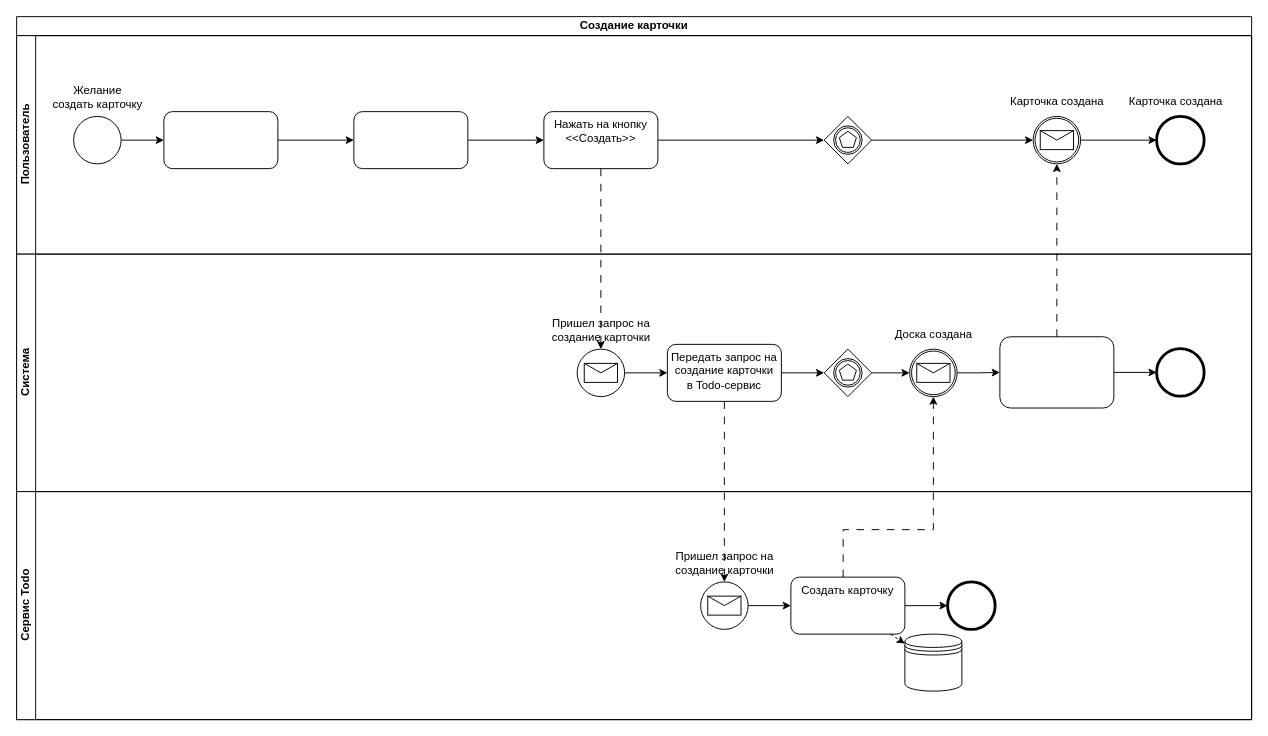
The diagram is 1268 pixels wide and 736 high, and some of its shapes have lost their labels. Here are the shapes that lost their labels. From the top down, the centre of each, then its label:
At (x=220, y=140): "Нажать на кнопку <<Создать карточку>>".
At (x=410, y=140): "Ввести название карточки и ее описание".
At (x=1056, y=372): "Отправить сообщение об успешном создании карточки".
At (x=933, y=662): "Карточки".
